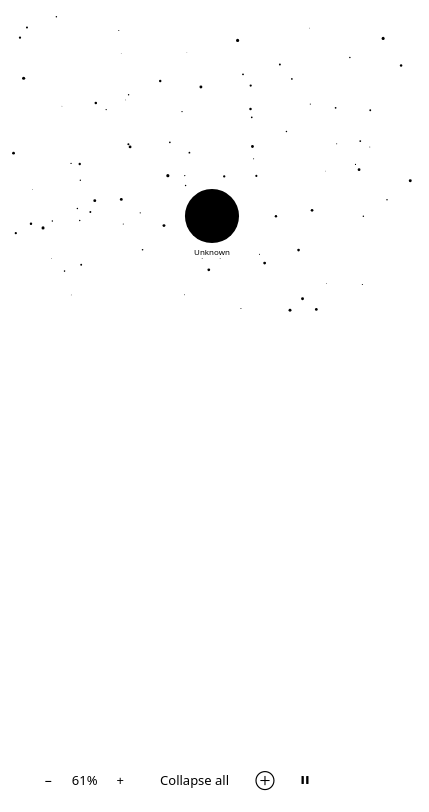
Test case: centering the canvas › fits the picture on load and recenters it when Unknown is the only place
Expected: the text "61%" is shown, [72, 771, 98, 789]
Click the button named "Zoom in" at (120, 780), box [111, 770, 130, 790]
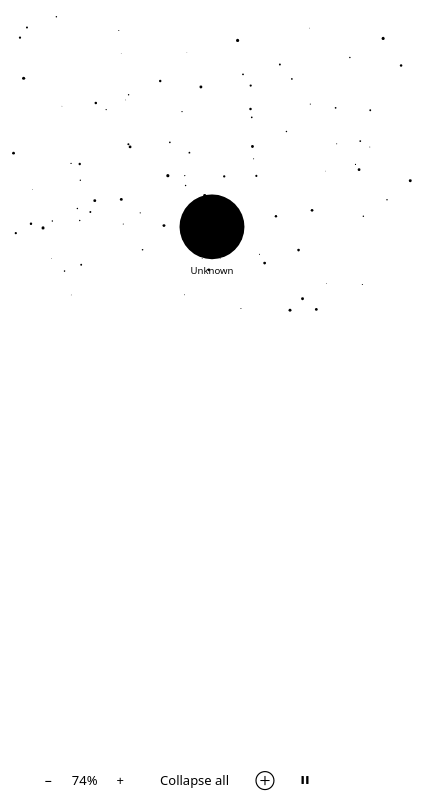
Expected: the text "74%" is shown, [72, 771, 98, 789]
Click the button named "Recenter" at (265, 780), box [249, 764, 281, 796]
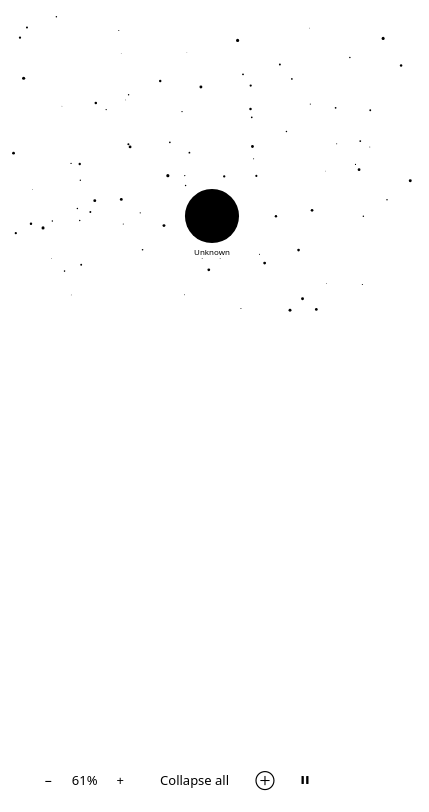
Expected: the text "61%" is shown, [72, 771, 98, 789]
